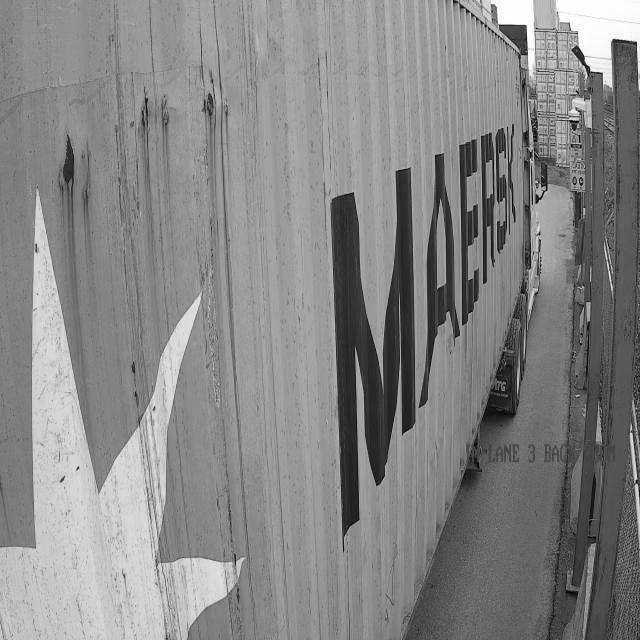container_company_logo: (331, 168, 416, 532), (418, 116, 521, 406)
truck_with_container: (0, 0, 540, 639)
